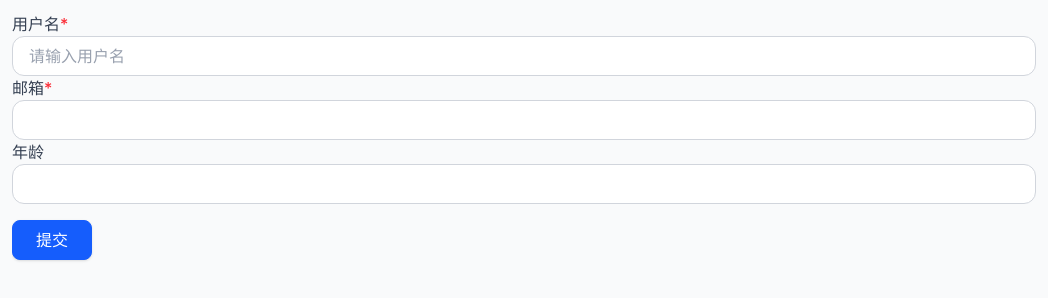
Form Component › 表单验证测试 › 应该显示邮箱格式错误
In the field labelled "邮箱*": [524, 120] box x1=12 y1=100 x2=1036 y2=140, type "invalid-email"
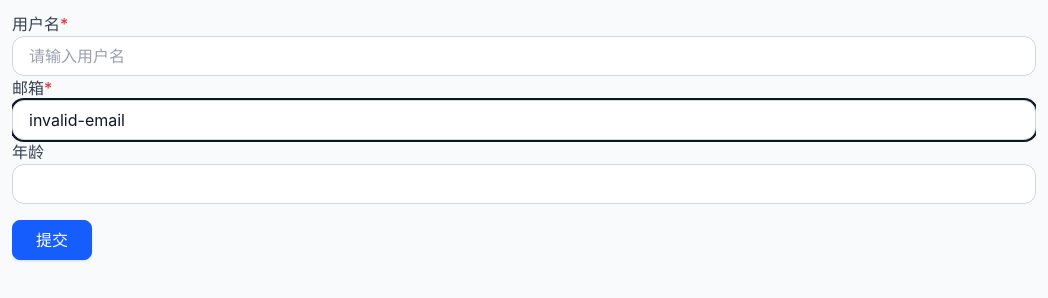
Press Tab
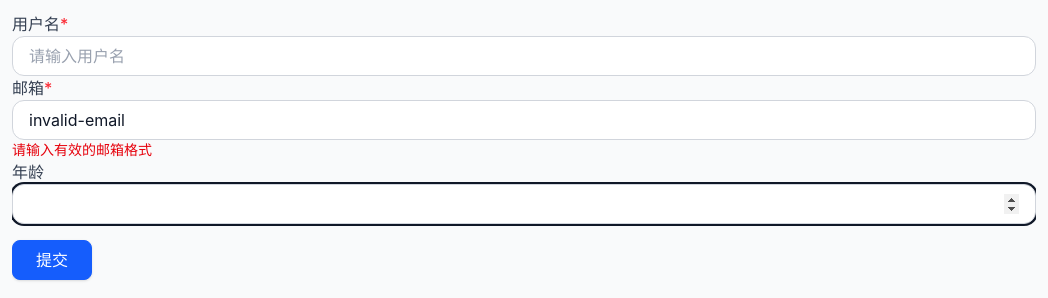
Expected: the text "请输入有效的邮箱格式" is shown, x1=12 y1=141 x2=152 y2=158
